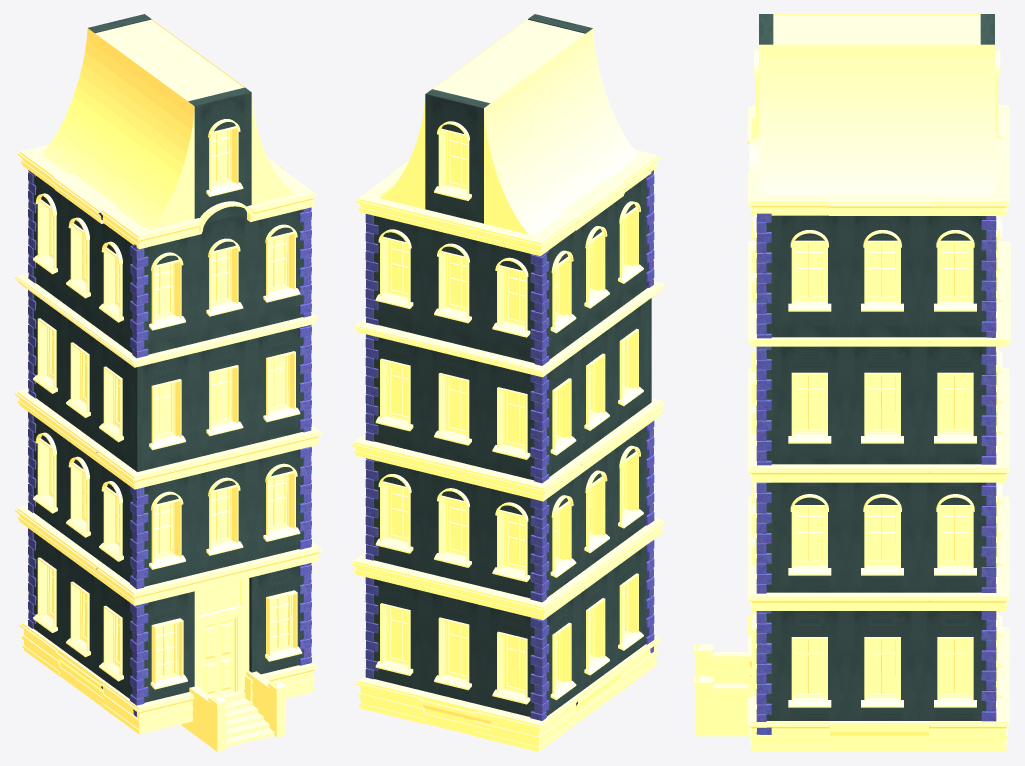
The model's file is Building 01 (Full) exp.fbx.
The picture shows the model from 3 angles, left to right: view 1: azimuth 30°, elevation 25°; view 2: azimuth 150°, elevation 25°; view 3: azimuth 270°, elevation 25°; orthographic projection. The views are drawn at different scales.
Visible parts, largest first — view 1: Cube_049__3__1, roof, Cube_008_43, Cube_008_37, Cube_008_41, Cube_008_38, Cube_008_45, Doorway_Way_wall__1_, Cube_008_40, Cube_008_42, Cube_008_39, Cube_008_48 (+93 smaller); view 2: Cube_049__3__1, roof, Cube_008_36, Cube_008_34, Cube_008_25, Cube_008_28, Cube_008_31, Cube_008_33, Cube_008_24, Cube_008_35, Cube_008_26, Cube_008_27 (+92 smaller); view 3: Cube_049__4__1, Cube_008_21, Cube_008_12, roof, Cube_008_22, Cube_008_13, Cube_008_15, Cube_008_18, Cube_008_16, Cube_008_19, Cube_008_23, Cube_008_14 (+59 smaller).
Part boxes in pixels (x1=…): Cube_049__3__1: x1=47, y1=33, x2=188, y2=226; roof: x1=95, y1=19, x2=243, y2=101; Cube_008_43: x1=188, y1=87, x2=251, y2=222; Cube_008_37: x1=130, y1=353, x2=194, y2=471; Cube_008_41: x1=194, y1=213, x2=251, y2=343; Cube_008_38: x1=194, y1=339, x2=251, y2=457; Cube_008_45: x1=194, y1=461, x2=251, y2=574; Doorway_Way_wall__1_: x1=194, y1=578, x2=249, y2=690; Cube_008_40: x1=130, y1=236, x2=194, y2=354; Cube_008_42: x1=251, y1=209, x2=303, y2=329; Cube_008_39: x1=251, y1=327, x2=303, y2=443; Cube_008_48: x1=249, y1=565, x2=303, y2=674; Cube_049__3__1: x1=490, y1=33, x2=633, y2=232; roof: x1=433, y1=20, x2=585, y2=103; Cube_008_36: x1=425, y1=89, x2=489, y2=223; Cube_008_34: x1=425, y1=228, x2=483, y2=350; Cube_008_25: x1=425, y1=349, x2=483, y2=467; Cube_008_28: x1=425, y1=591, x2=483, y2=705; Cube_008_31: x1=425, y1=473, x2=483, y2=586; Cube_008_33: x1=367, y1=215, x2=425, y2=336; Cube_008_24: x1=367, y1=337, x2=425, y2=453; Cube_008_35: x1=484, y1=242, x2=534, y2=362; Cube_008_26: x1=484, y1=363, x2=534, y2=480; Cube_008_27: x1=367, y1=579, x2=425, y2=691; Cube_049__4__1: x1=772, y1=44, x2=981, y2=194; Cube_008_21: x1=773, y1=215, x2=846, y2=337; Cube_008_12: x1=773, y1=346, x2=846, y2=464; roof: x1=773, y1=15, x2=980, y2=44; Cube_008_22: x1=846, y1=216, x2=918, y2=337; Cube_008_13: x1=846, y1=346, x2=918, y2=464; Cube_008_15: x1=773, y1=611, x2=846, y2=720; Cube_008_18: x1=773, y1=482, x2=846, y2=592; Cube_008_16: x1=846, y1=611, x2=918, y2=720; Cube_008_19: x1=846, y1=482, x2=918, y2=592; Cube_008_23: x1=919, y1=216, x2=991, y2=337; Cube_008_14: x1=919, y1=346, x2=991, y2=464.
Size of what is drawn, in the model's own units: 662 by 2086 by 870.
